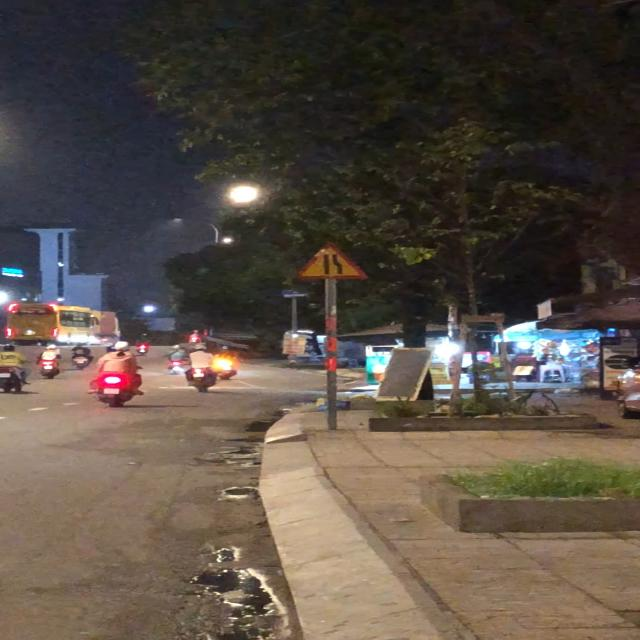Bien bao duong bi thu hep: (288, 242, 374, 281)
